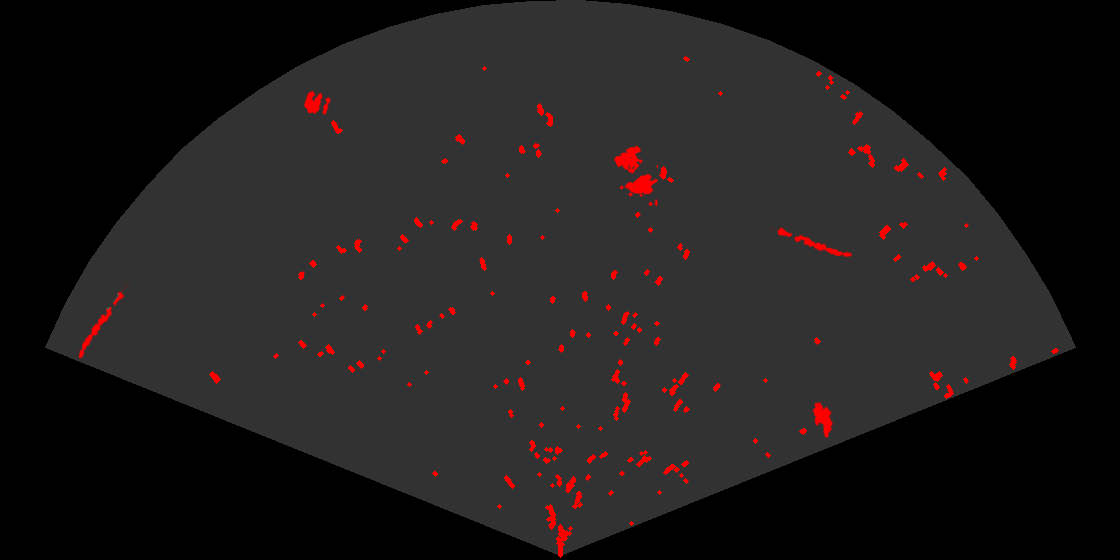AUV: (811, 400, 835, 440)
ball: (302, 89, 332, 116)
cage: (612, 144, 658, 206)
chain: (77, 281, 129, 360), (770, 226, 854, 259)
